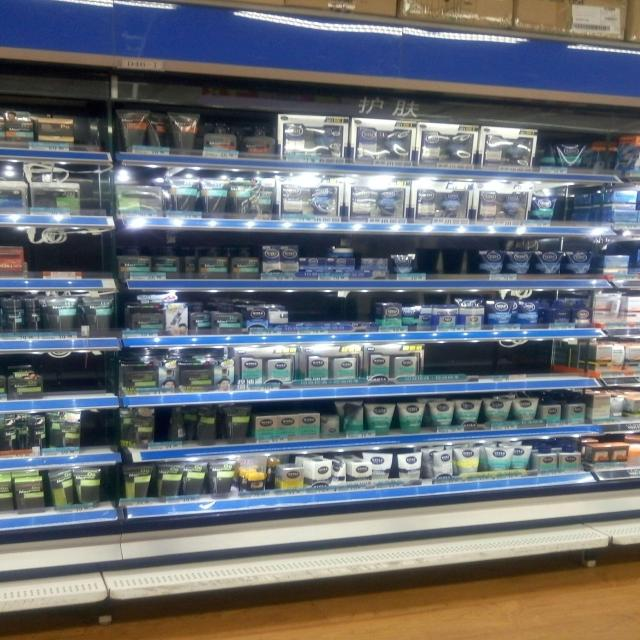empty_space: (434, 349, 554, 372), (36, 244, 105, 270), (48, 362, 107, 390), (423, 247, 474, 269), (86, 414, 112, 446)
